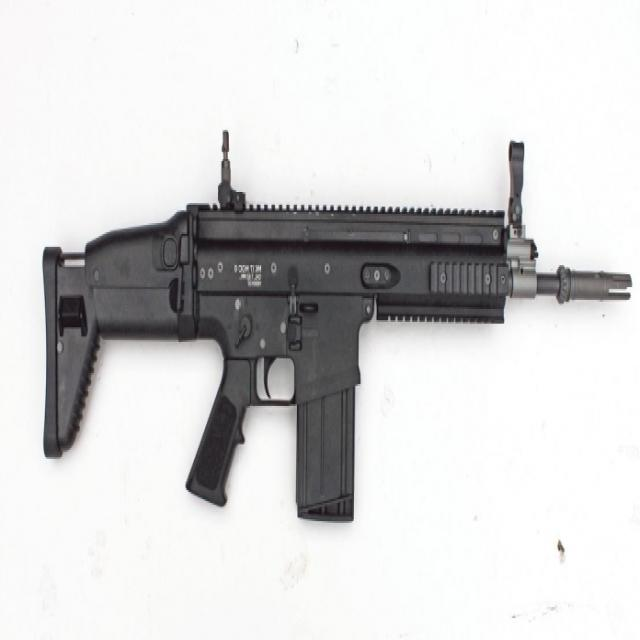Gun: (34, 130, 640, 545)
